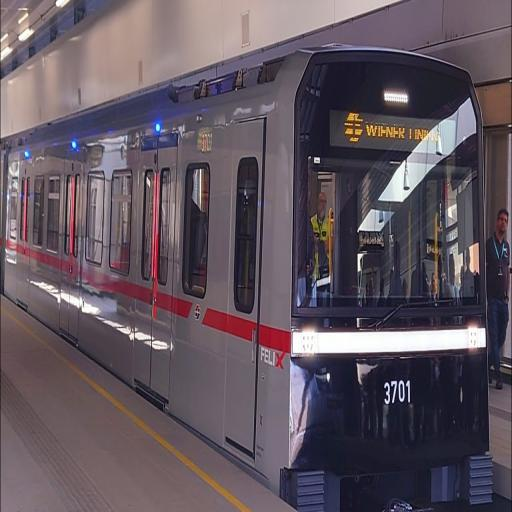X-Wagen: (7, 32, 496, 501)
